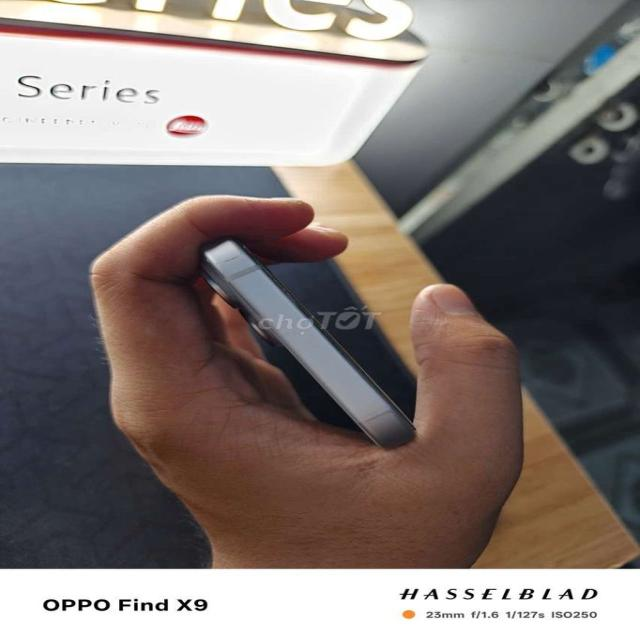gen_15: (190, 223, 426, 462)
